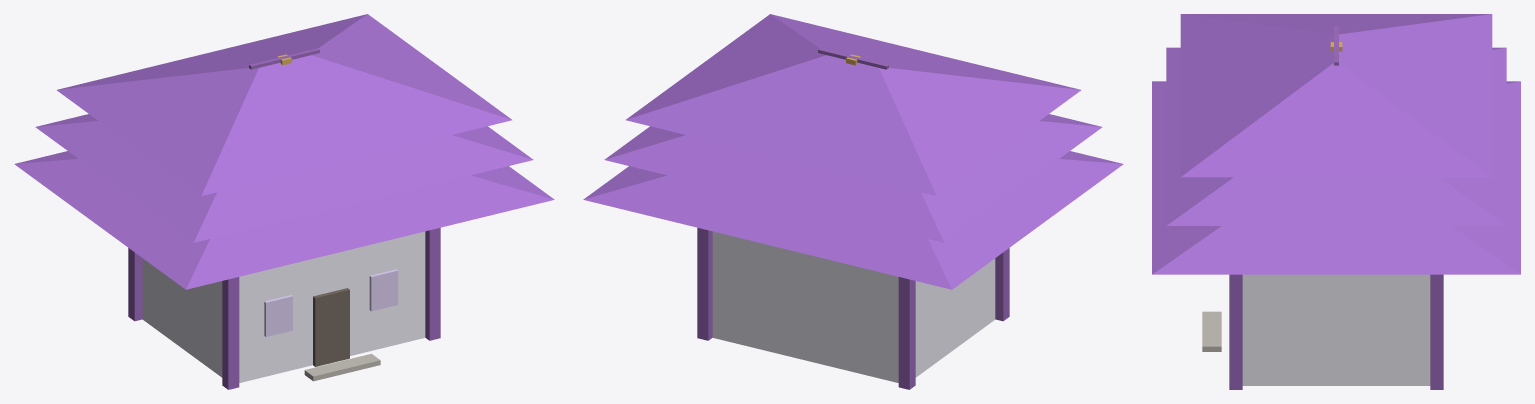
Rendered from office.glb.
3 renders of one model, left to right at view 1: azimuth 30°, elevation 25°; view 2: azimuth 150°, elevation 25°; view 3: azimuth 270°, elevation 25°, orthographic. The views are drawn at different scales.
Size of the model in its own units: 9.55 by 6.68 by 7.7.
